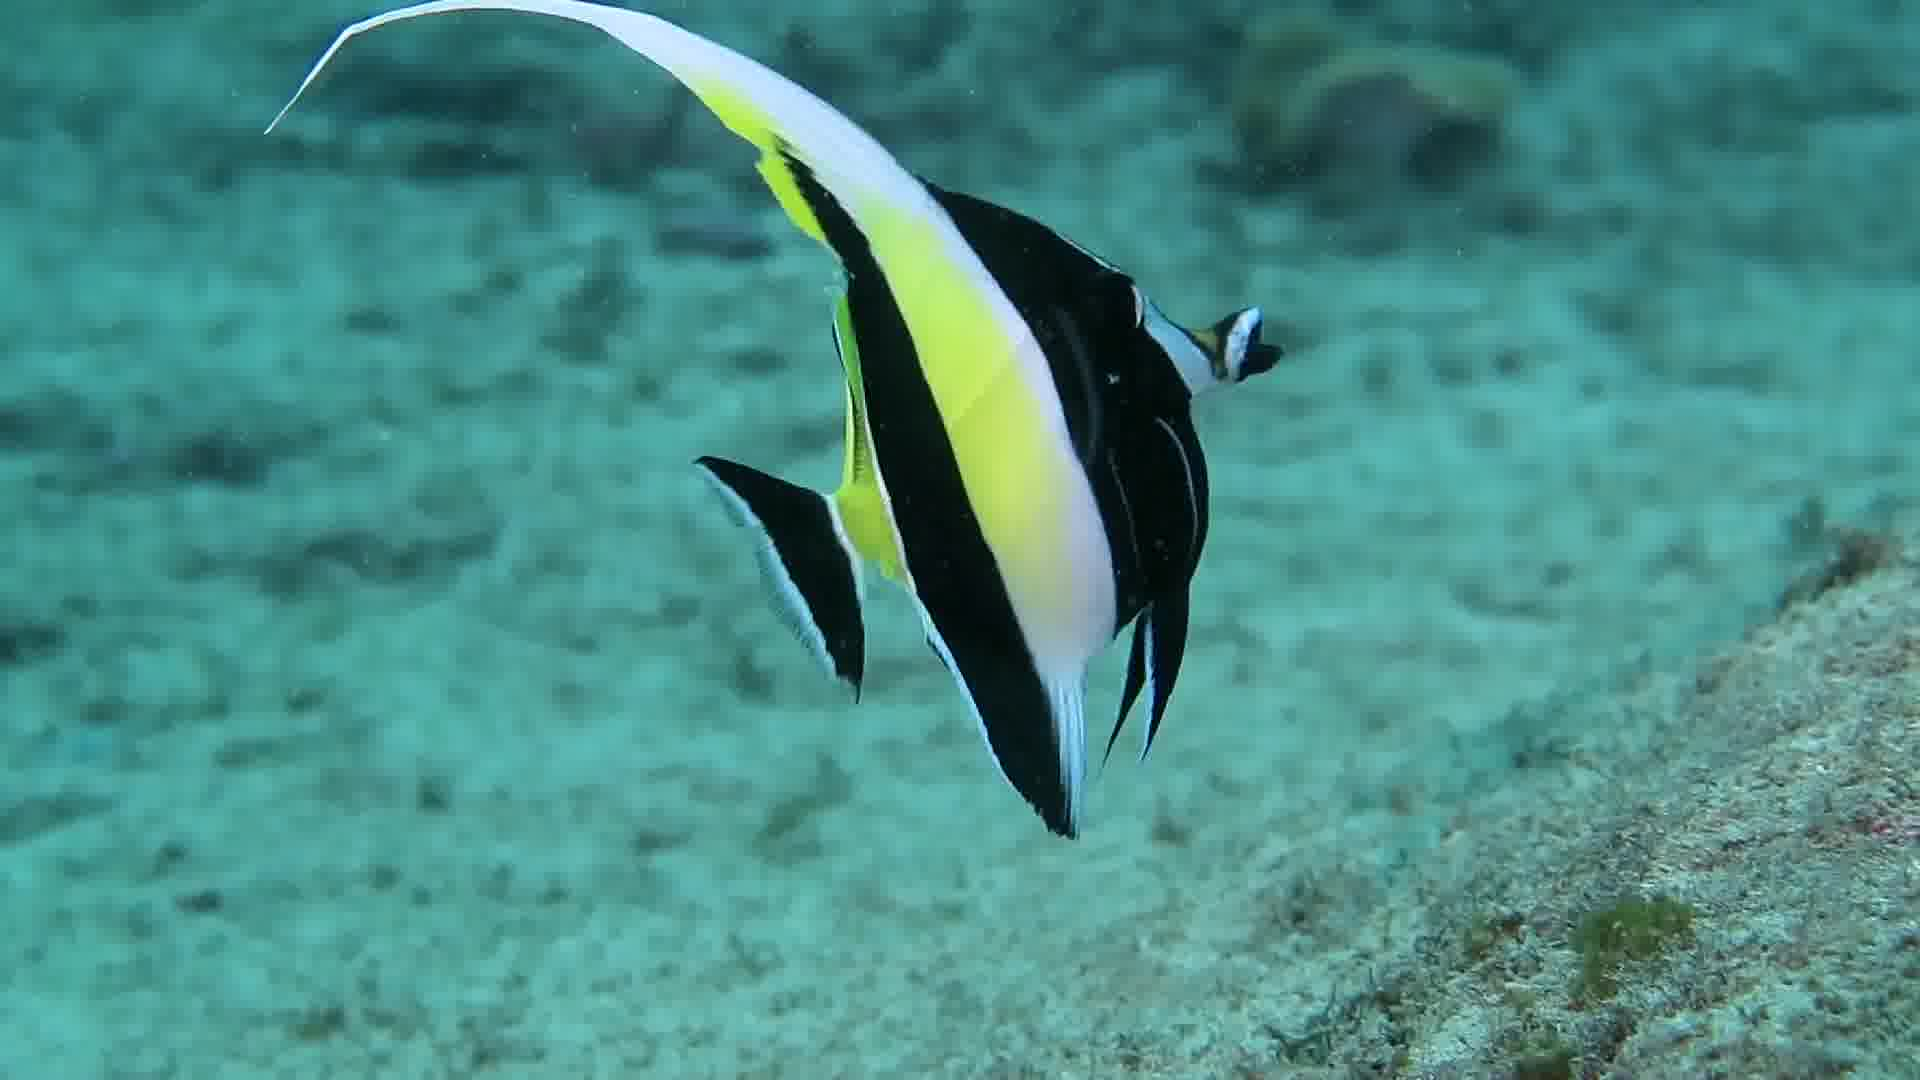Zanclus cornutus: (647, 53, 1328, 872)
